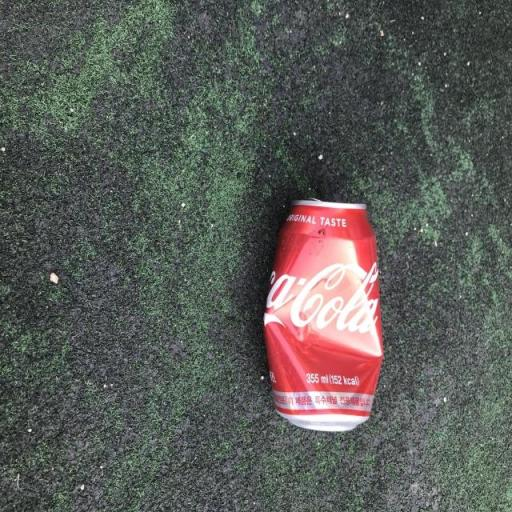metal: (252, 168, 432, 512)
